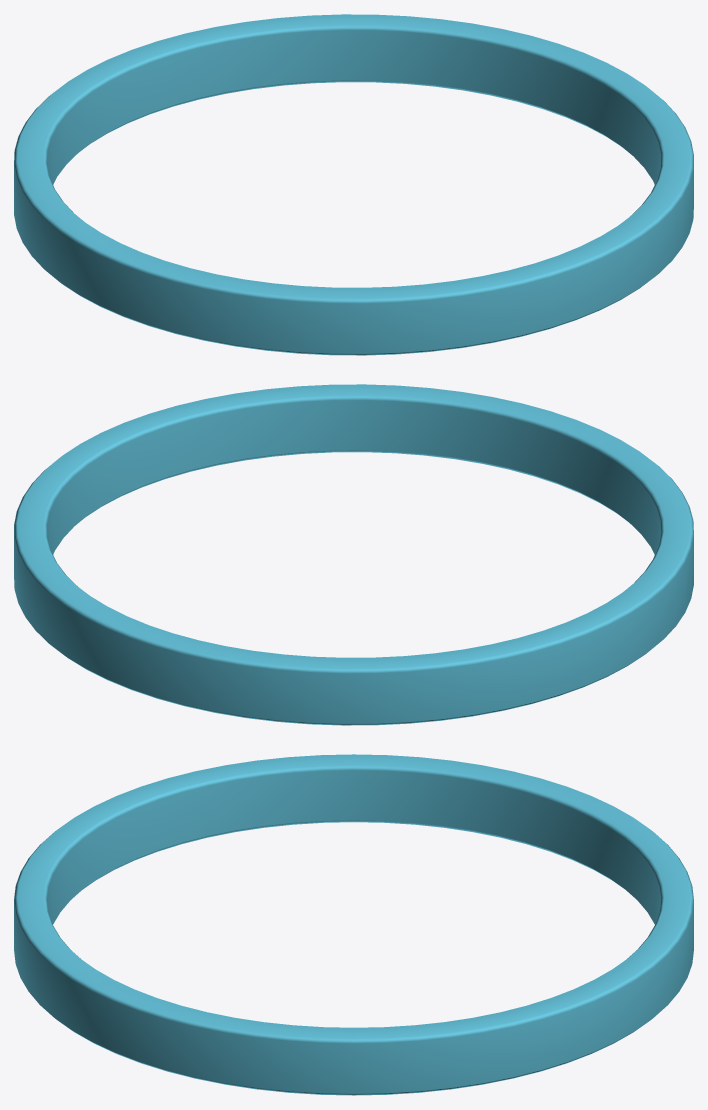
3 views of the same model, one above another, from view 1: azimuth 30°, elevation 25°; view 2: azimuth 150°, elevation 25°; view 3: azimuth 270°, elevation 25° (orthographic).
Parts seen in each view (by area): view 1: seal_body; view 2: seal_body; view 3: seal_body.
Boxes of the visible parts, x1,y1,x2,y2 form: seal_body: [14, 14, 693, 355]; seal_body: [14, 384, 693, 725]; seal_body: [14, 754, 693, 1095].
Size of the model in its own units: 0.065 by 0.006 by 0.065.
